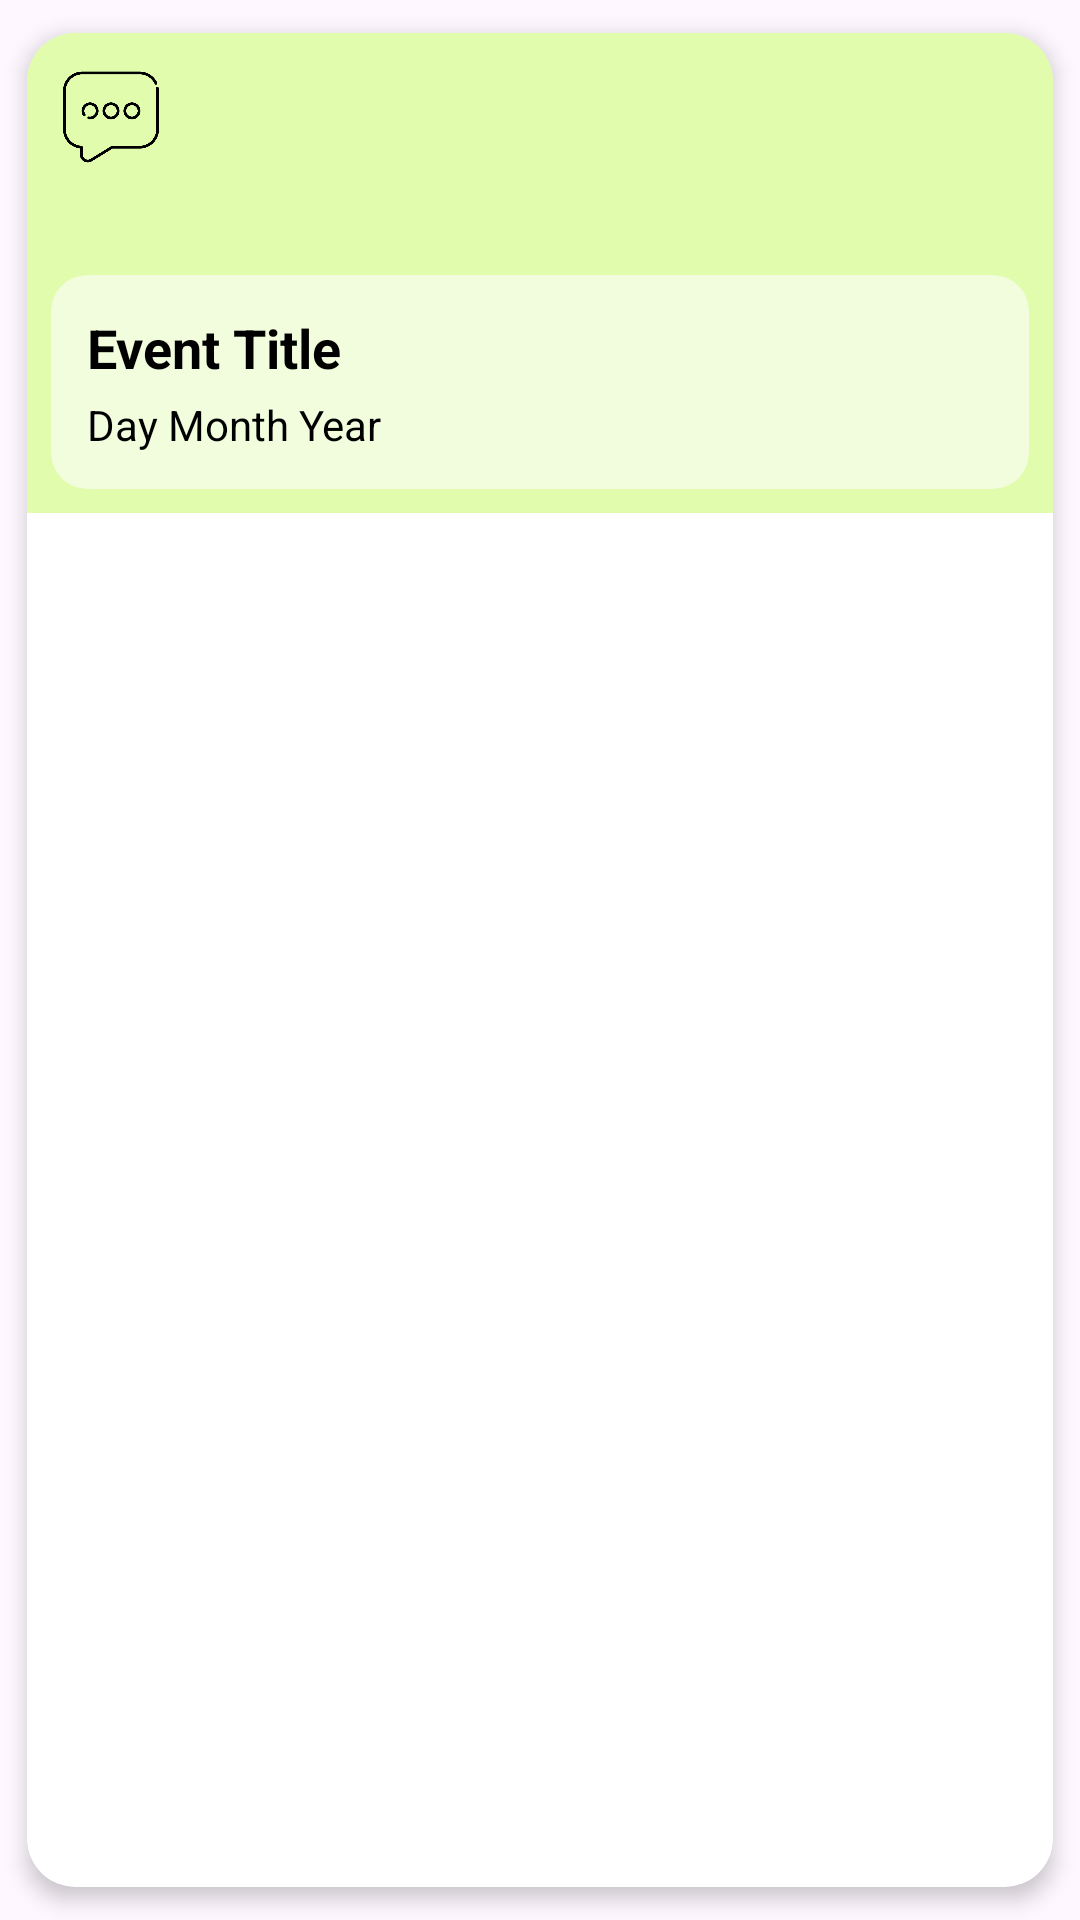

Locate icon controls on the screen. Image size 1080*1920, boxes as [x1,y1,x2,y2].
comment: [63,71,159,163]
